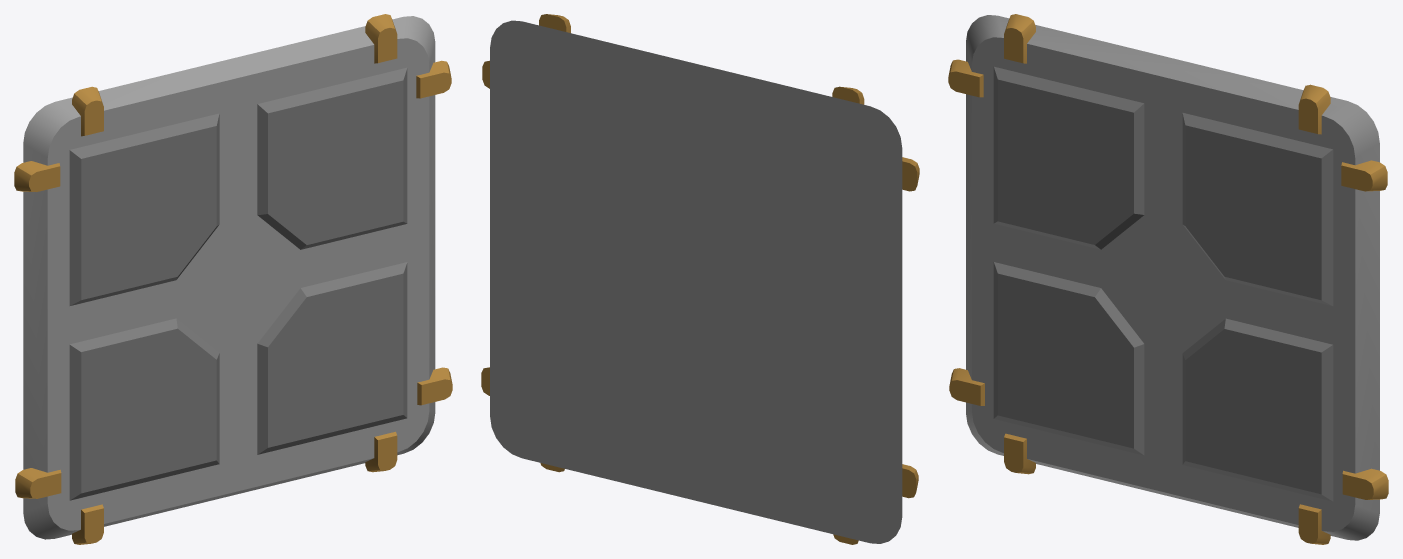
The model's file is Details_Plate_Details.glb.
The picture shows the model from 3 angles, left to right: view 1: azimuth 30°, elevation 25°; view 2: azimuth 150°, elevation 25°; view 3: azimuth 330°, elevation 25°; orthographic projection.
Parts seen in each view (by area): view 1: Details_Plate_Details; view 2: Details_Plate_Details; view 3: Details_Plate_Details.
Boxes of the visible parts, x1,y1,x2,y2 form: Details_Plate_Details: (14, 14, 452, 544); Details_Plate_Details: (481, 14, 919, 544); Details_Plate_Details: (948, 14, 1388, 544).
Bounding box in the file's own units: 0.2108 × 0.2108 × 0.0109.
